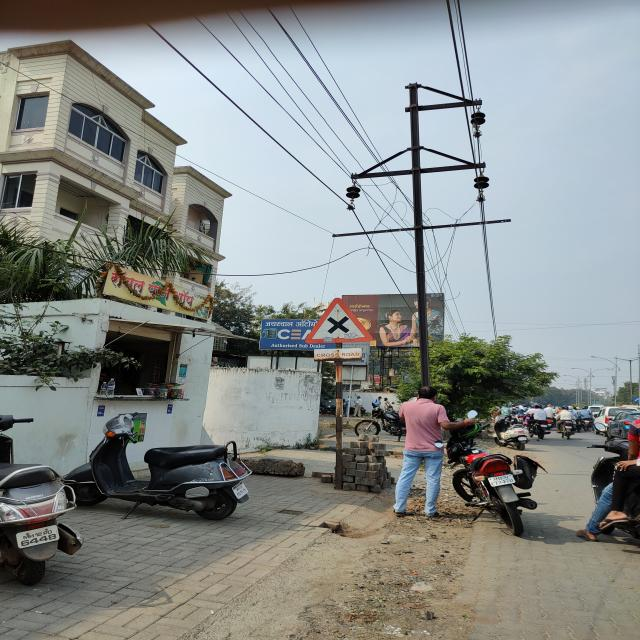cross_road: (305, 298, 372, 344)
